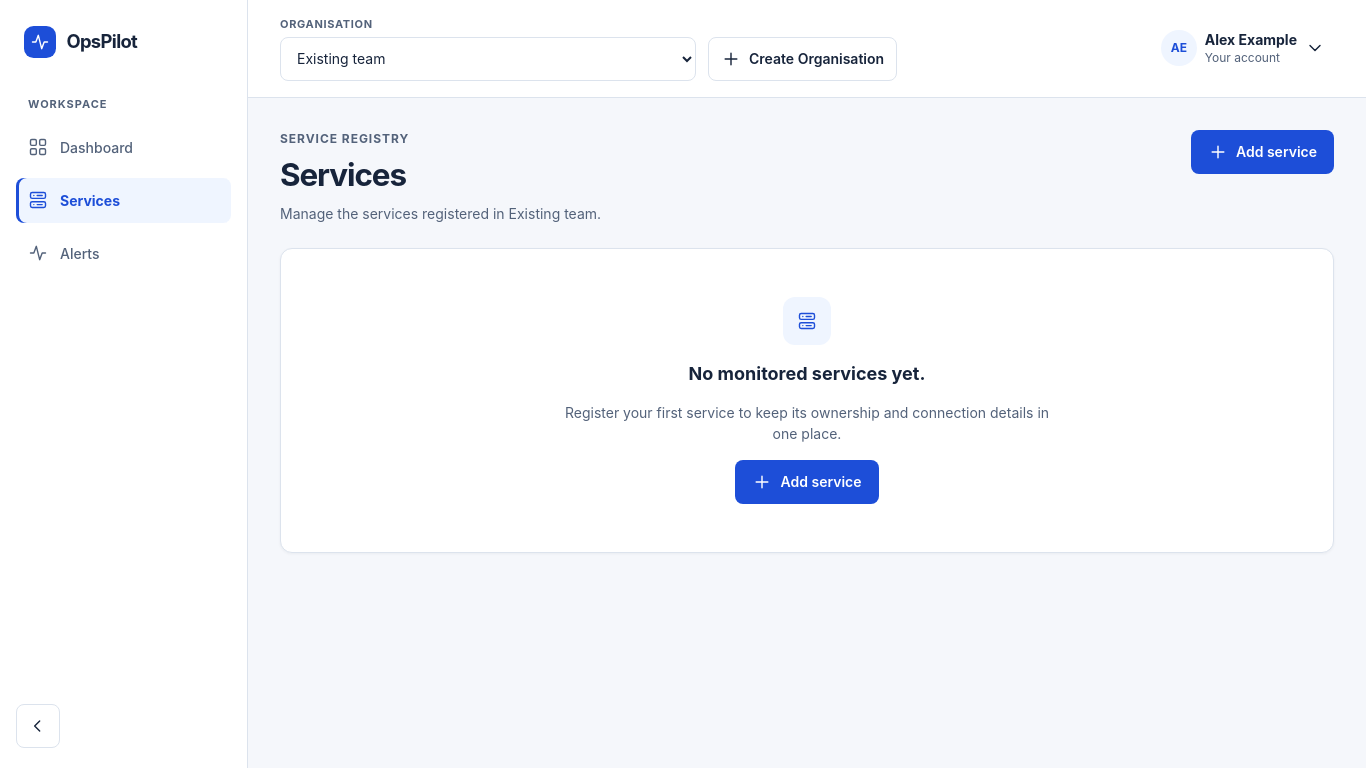
Scenario: existing members keep their selection across routes and keep prior organisations after creating another
Select "Second team" in the dropdown labelled "Organisation" at (488, 58), box [280,36,696,80]
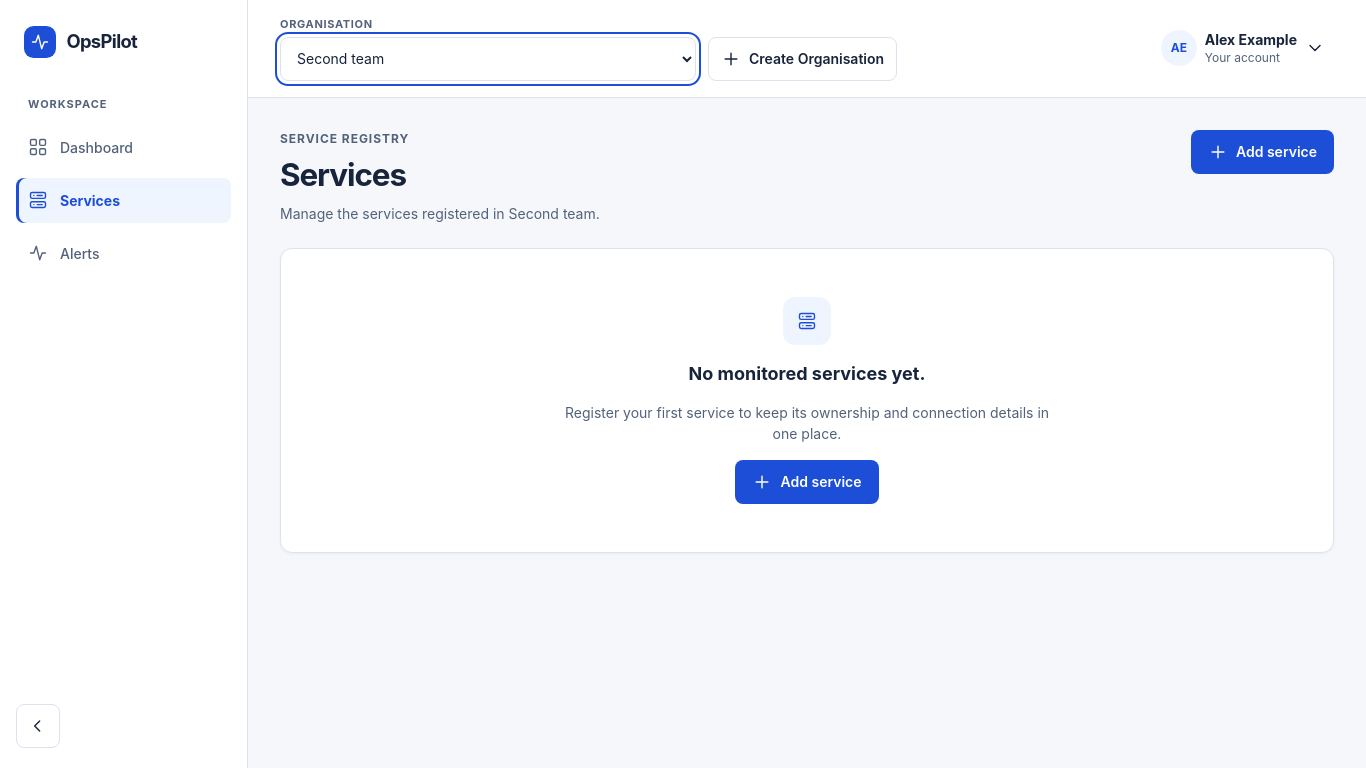
Click the link "Create Organisation" at (803, 58), box [708,36,897,80]
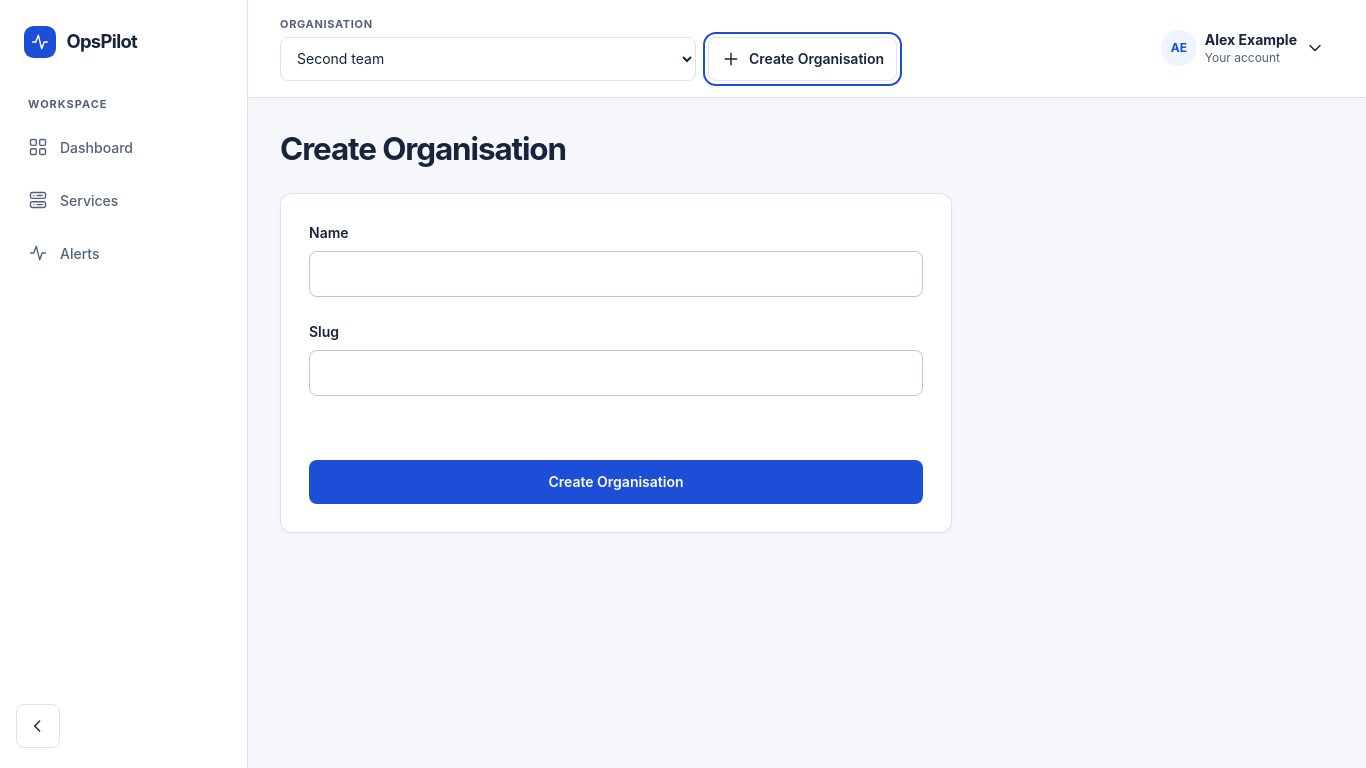
Type "New team" into the field labelled "Name" at (616, 274), box [309,251,923,297]
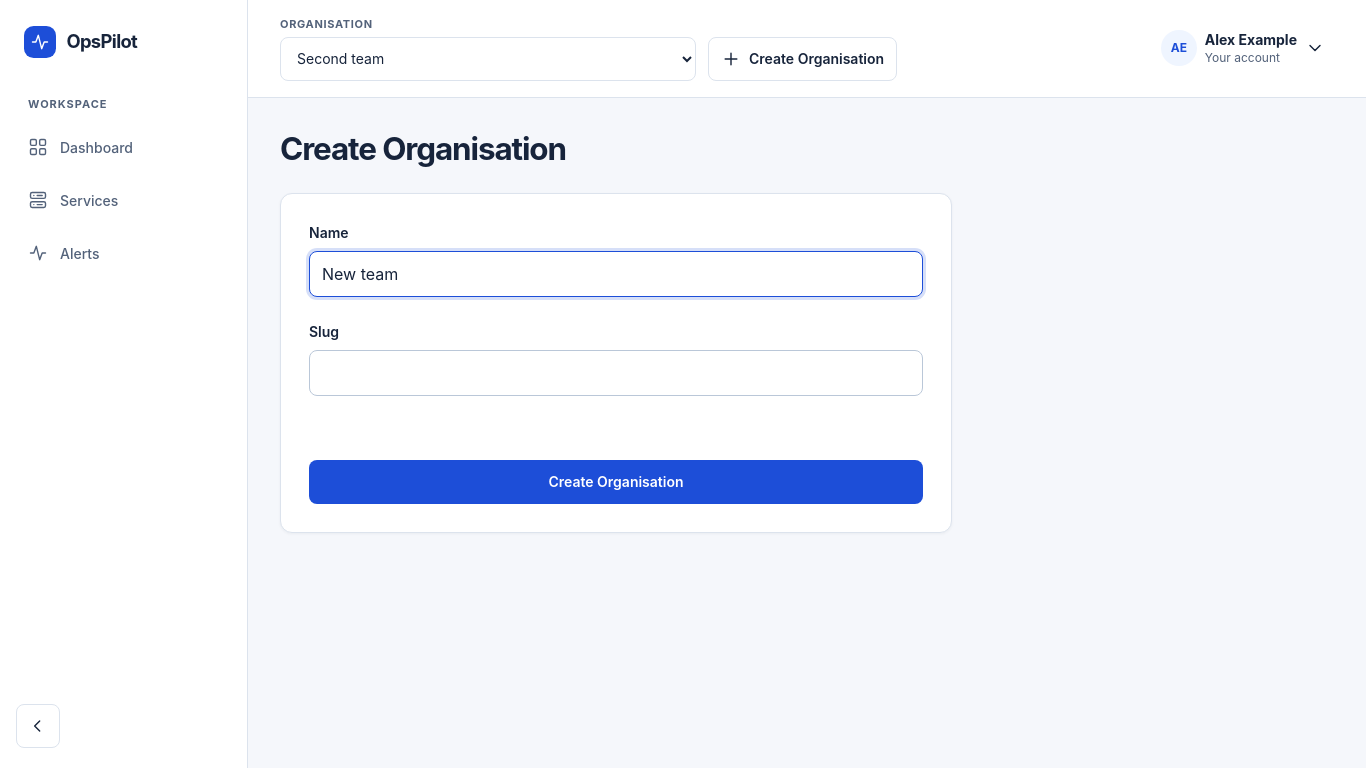
Type "new-team" into the field labelled "Slug" at (616, 373), box [309,350,923,396]
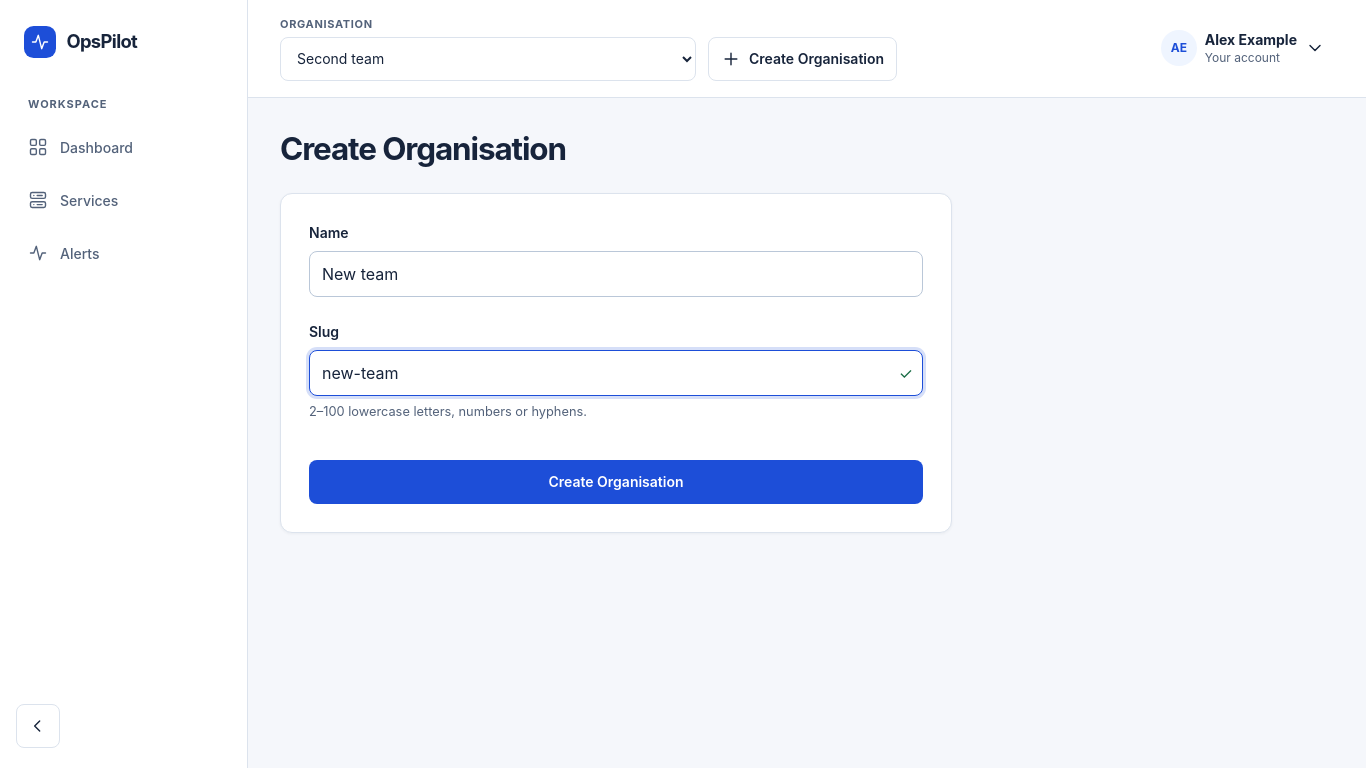
Click the button "Create Organisation" at (616, 482), box [309,460,923,504]
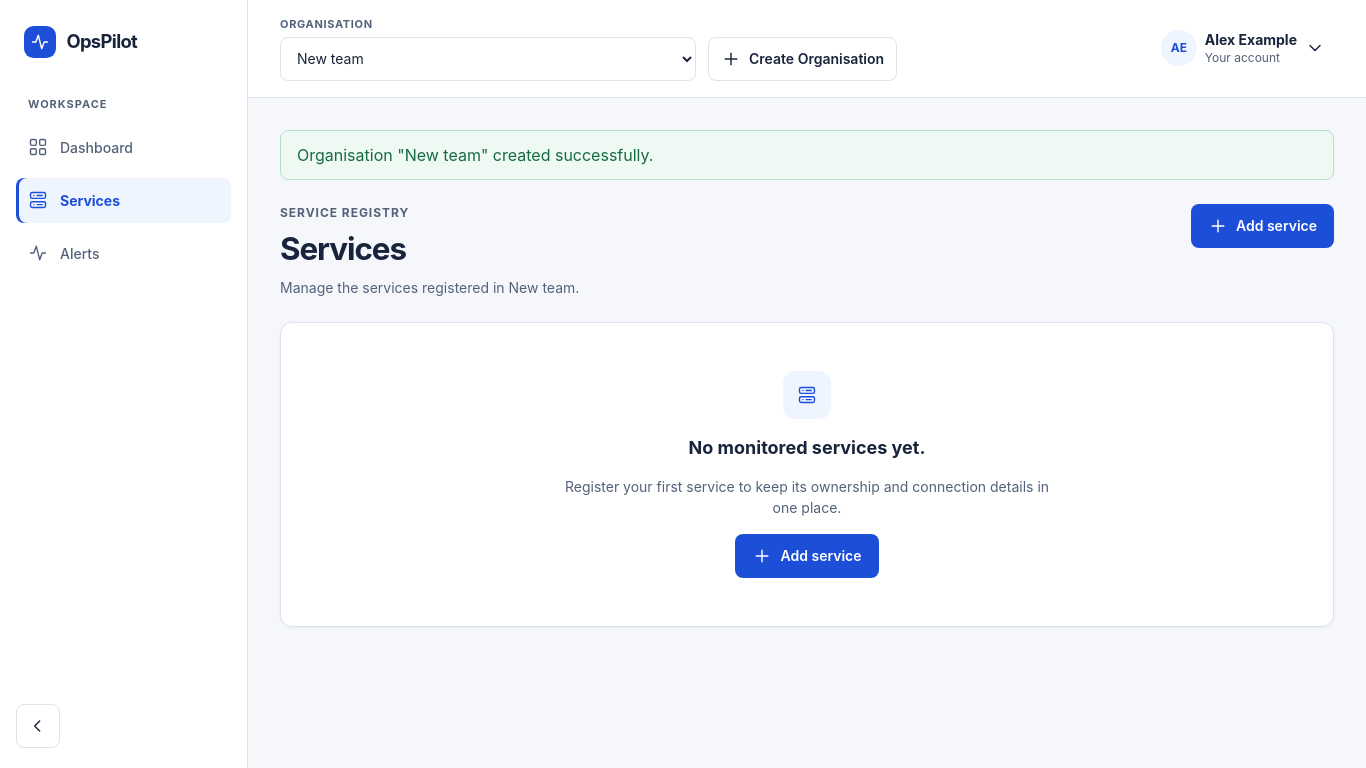
Check: the text "Organisation \"New team\" created successfully." is shown, box [280,130,1334,180]
